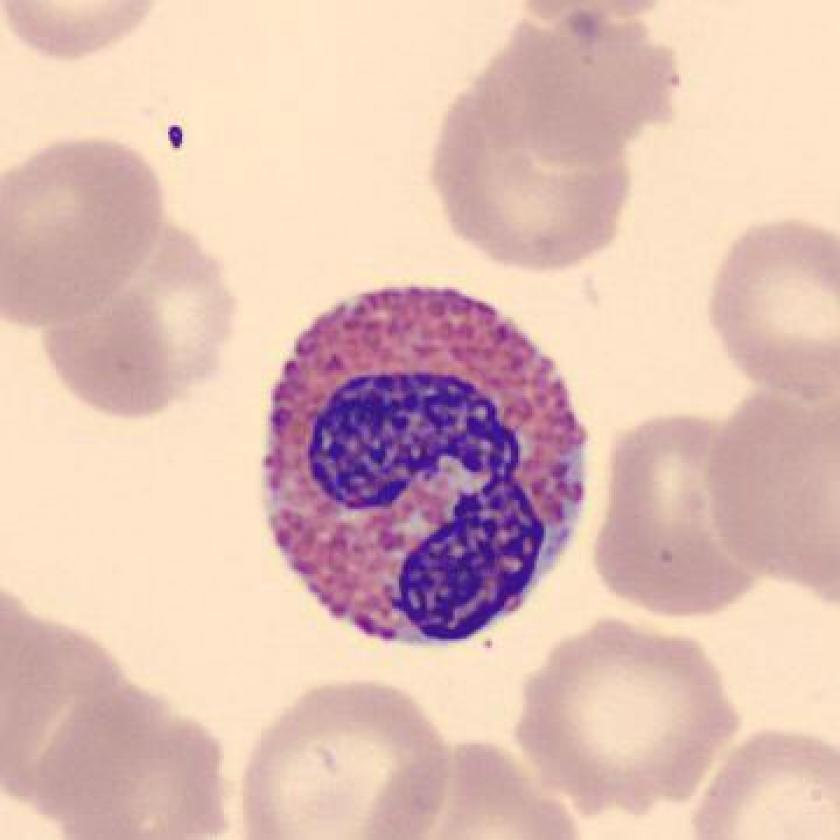eosinophil: (246, 277, 605, 659)
